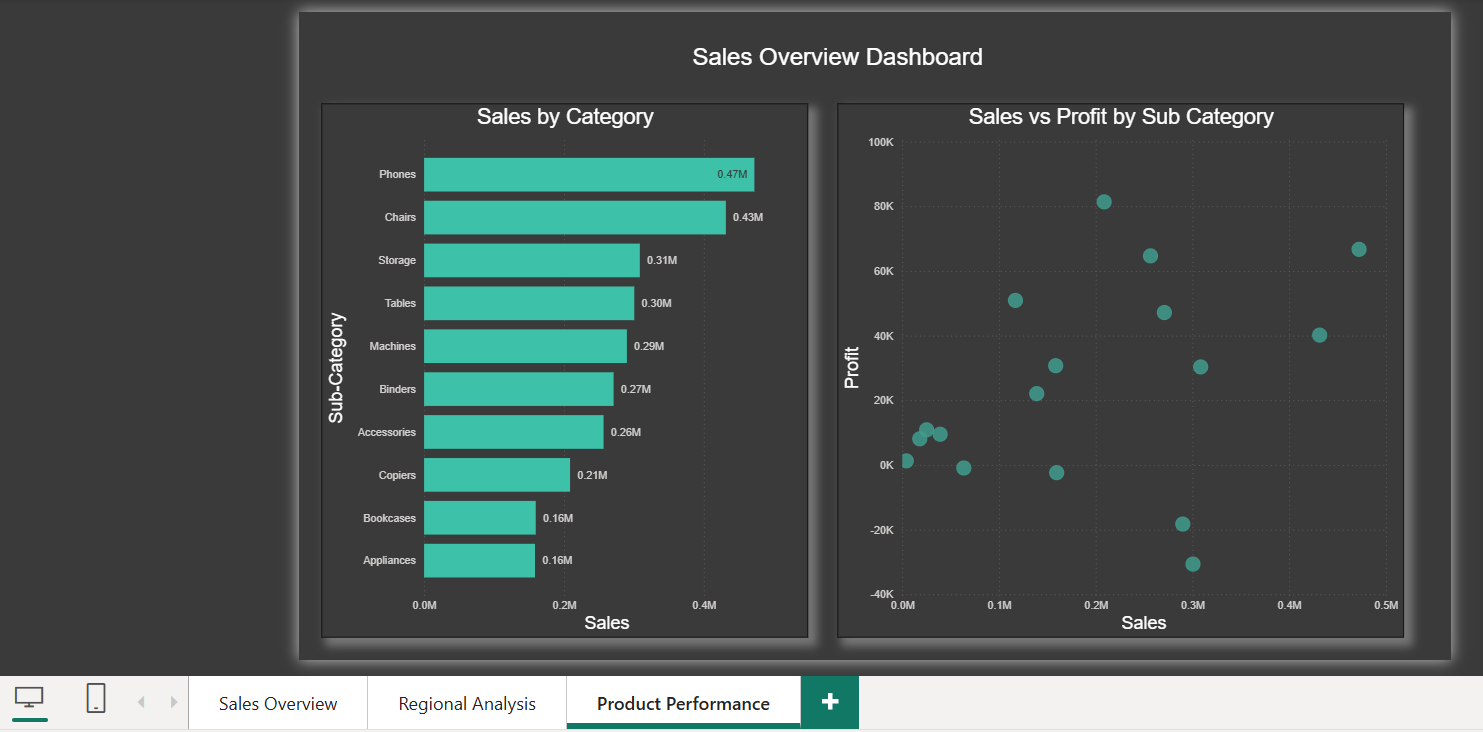

What the dashboard file says about the page in this screenshot:
{"tool":"powerbi","page":{"name":"Product Performance","canvas":[1280,720],"ordinal":2},"visuals":[{"type":"clusteredBarChart","title":"Sales by Category","fields":{"Category":["dim_product.sub_category"],"Y":["Sum(fact_sales.sales_amount)"]},"box":[24.6,102,540.5,593.4],"z":0},{"type":"scatterChart","title":"Sales vs Profit by Sub Category","fields":{"X":["Sum(fact_sales.sales_amount)"],"Y":["Sum(fact_sales.profit)"],"Category":["dim_product.sub_category"]},"box":[599.1,102,629.3,593.4],"z":1000},{"type":"textbox","box":[370.4,30.2,457.3,43.5],"z":2000}]}

Visuals, with their boxes in screenshot pixels (x1, y1, x2, y2):
"Sales by Category" clusteredBarChart: [x1=286, y1=95, x2=810, y2=670]
"Sales vs Profit by Sub Category" scatterChart: [x1=843, y1=95, x2=1453, y2=670]
textbox: [x1=622, y1=25, x2=1065, y2=68]
